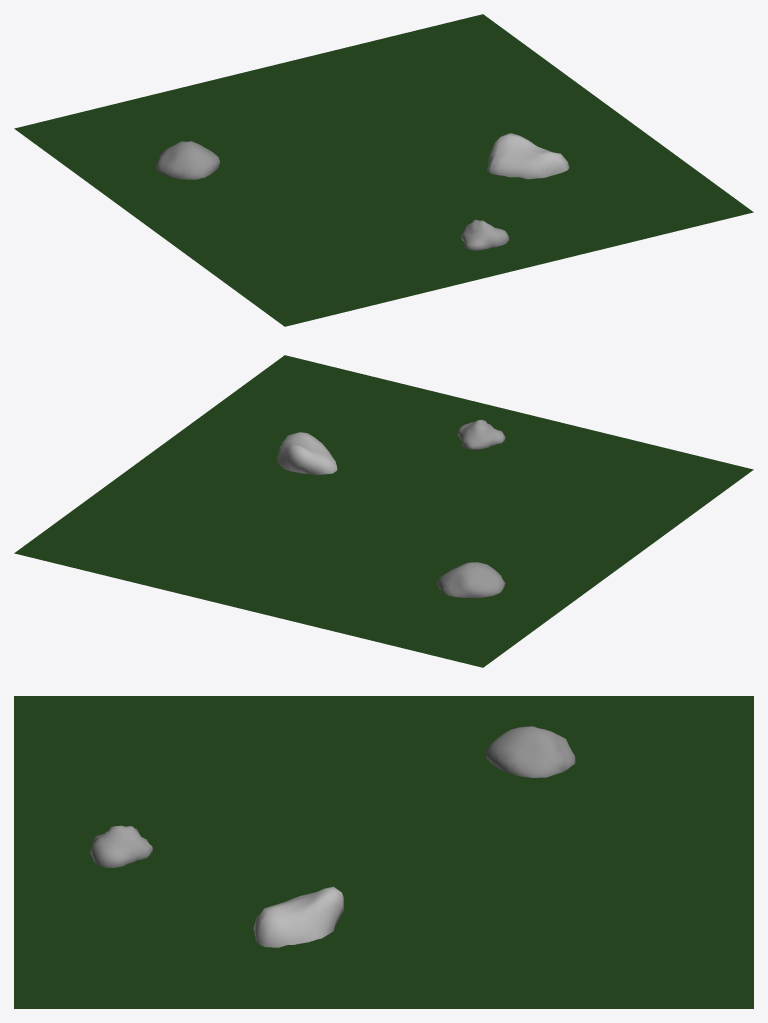
File: sol map forêt1.fbx
3 renders of one model, top to bottom at view 1: azimuth 30°, elevation 25°; view 2: azimuth 150°, elevation 25°; view 3: azimuth 270°, elevation 25°, orthographic. The views are drawn at different scales.
Visible parts, largest first — view 1: sol map forêt; view 2: sol map forêt; view 3: sol map forêt.
Boxes of the visible parts, x1,y1,x2,y2 form: sol map forêt: (14, 14, 753, 326); sol map forêt: (14, 355, 753, 667); sol map forêt: (14, 696, 753, 1008).
Bounding box in the file's own units: 200 × 19.35 × 200.
